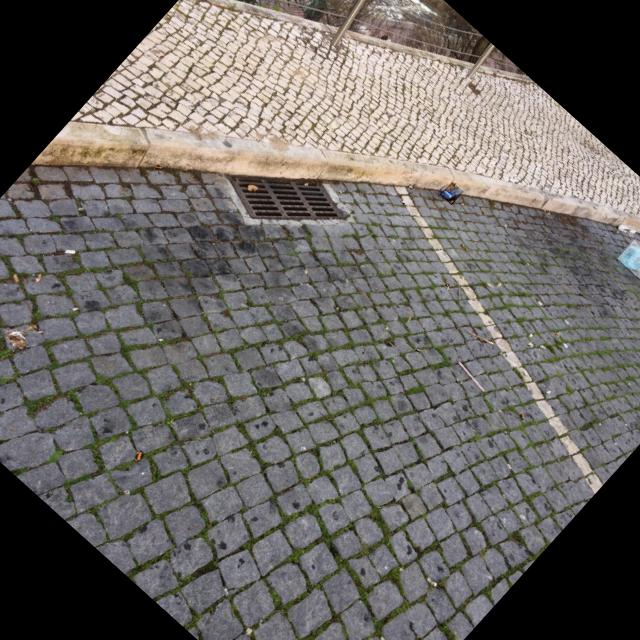Cigarette: (33, 274, 39, 282), (12, 274, 18, 282), (135, 451, 140, 460), (486, 282, 492, 288), (71, 307, 79, 311), (414, 349, 421, 352), (520, 412, 523, 419), (459, 244, 464, 248), (555, 332, 559, 336), (564, 320, 568, 324), (399, 200, 403, 204), (527, 343, 532, 346), (540, 346, 545, 349), (537, 301, 542, 304), (153, 167, 160, 169), (546, 390, 549, 394), (304, 270, 307, 274), (589, 311, 592, 314), (497, 283, 500, 286), (378, 249, 381, 252), (529, 333, 531, 337), (407, 186, 411, 188), (445, 283, 447, 287), (450, 200, 453, 202), (604, 233, 606, 236), (503, 225, 505, 227), (447, 286, 448, 289)
Clear plastic bottle: (619, 245, 640, 272), (439, 188, 460, 199)
